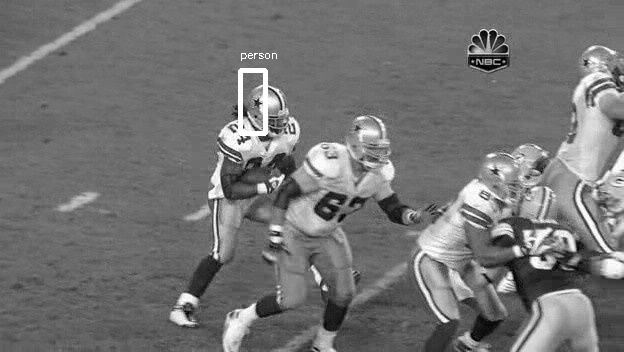person: (253, 85, 289, 131), (252, 85, 288, 131), (254, 85, 290, 131), (253, 84, 289, 130), (253, 86, 289, 132)
target_negative: (134, 186, 360, 279), (199, 290, 558, 317), (167, 225, 456, 238), (412, 298, 437, 331), (512, 214, 519, 311)
